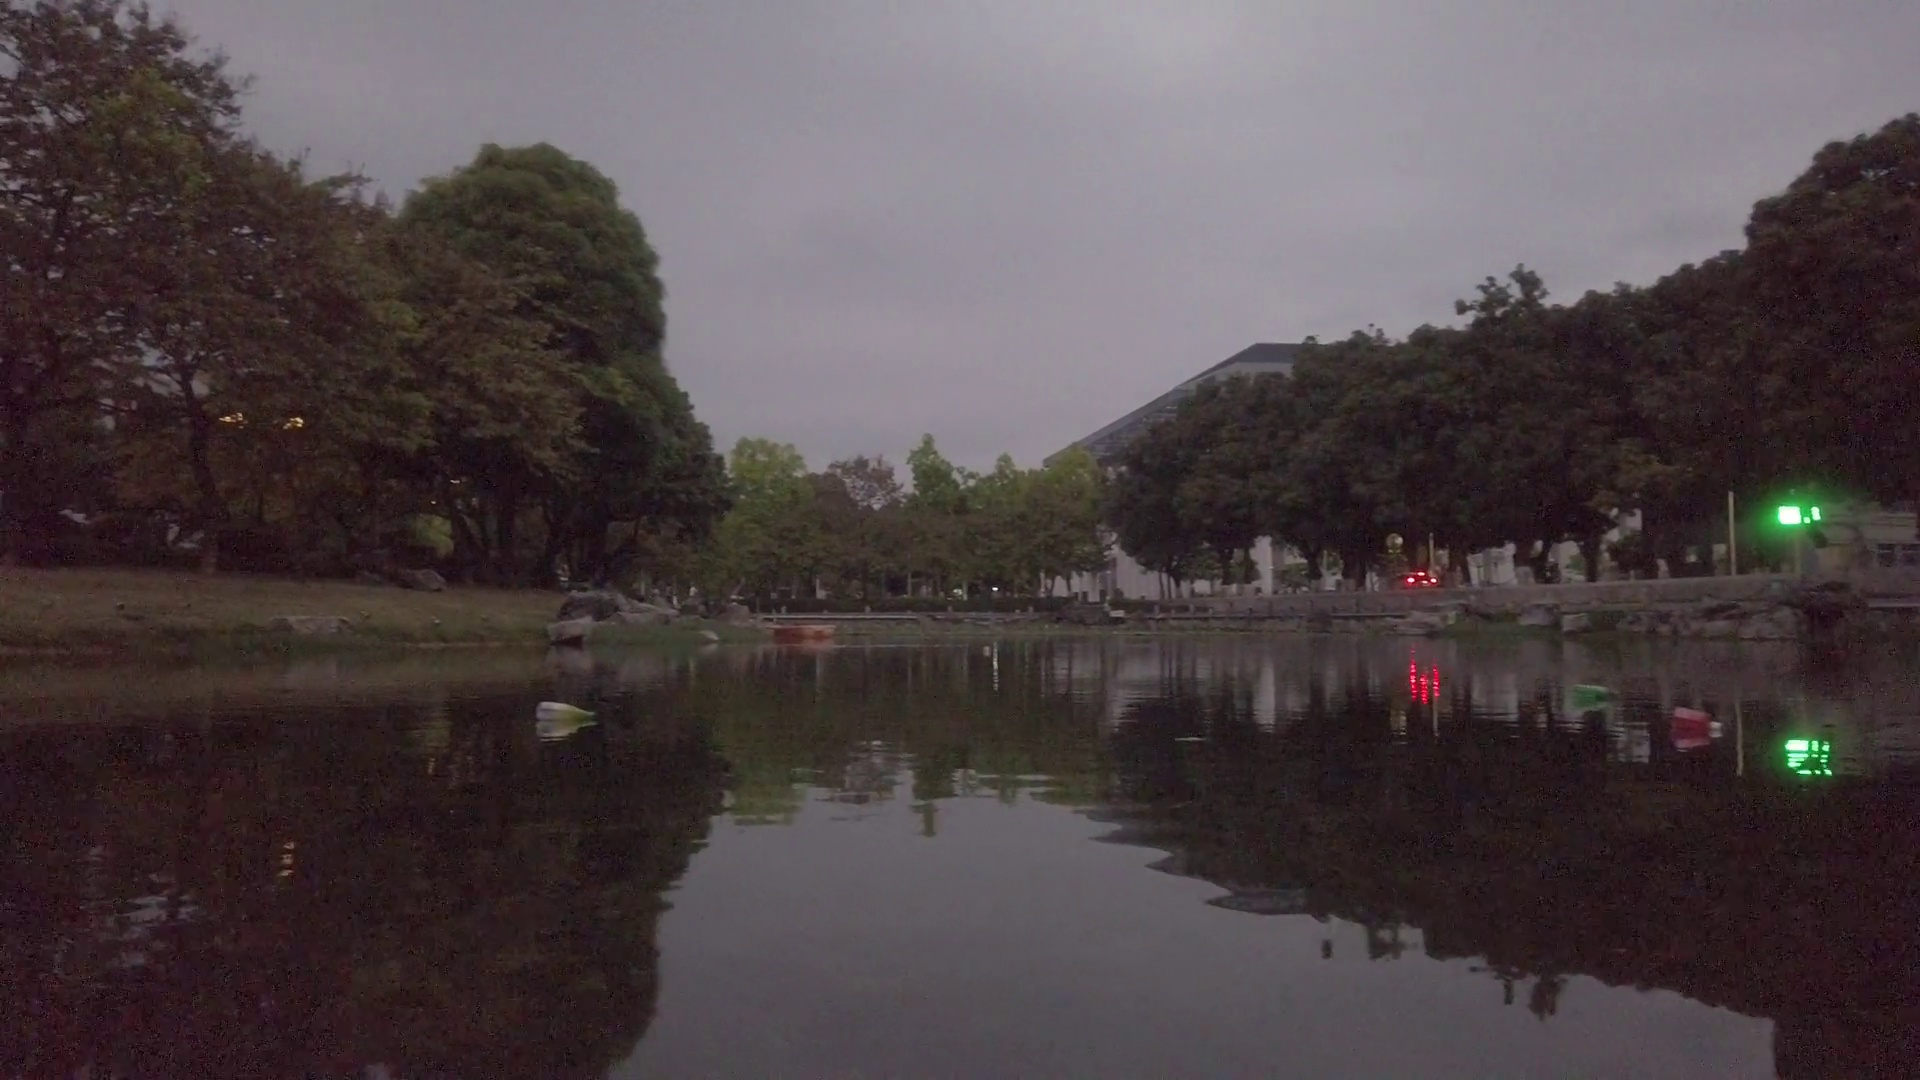bottle: (534, 698, 597, 727), (1673, 704, 1721, 735), (1575, 684, 1619, 704), (975, 644, 1000, 665)
